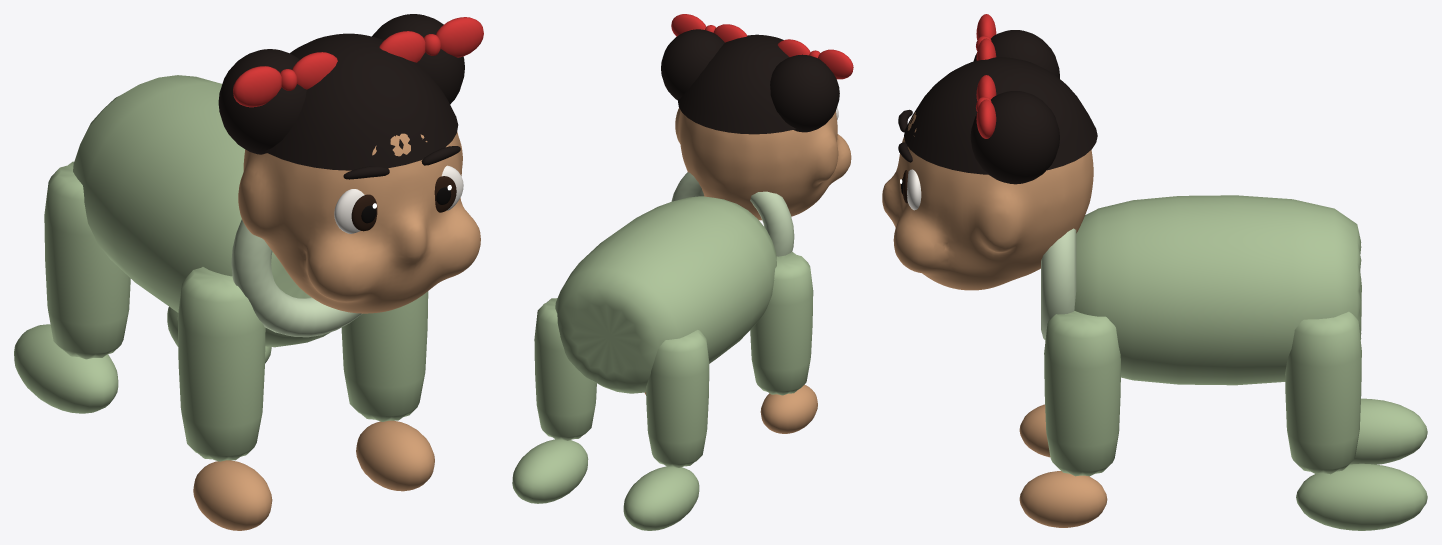
Rendered from baby-te54toFm.glb.
3 views of the same model, side by side, from view 1: azimuth 30°, elevation 25°; view 2: azimuth 150°, elevation 25°; view 3: azimuth 270°, elevation 25° (orthographic). The views are drawn at different scales.
Visible parts, largest first — view 1: baby_body_TEX_hearts, baby_bhead_baby_skin, baby_bhead_baby_hair, baby_limb2_TEX_hearts, baby_limb0_TEX_hearts, baby_limb1_TEX_hearts, baby_bhead_baby_bow, baby_body_baby_ruffle, baby_limb0_baby_skin, baby_limb1_baby_skin, baby_bhead_eye_white, baby_bhead_iris_#2b190f (+1 smaller); view 2: baby_body_TEX_hearts, baby_bhead_baby_hair, baby_bhead_baby_skin, baby_limb2_TEX_hearts, baby_limb3_TEX_hearts, baby_limb0_TEX_hearts, baby_body_baby_ruffle, baby_bhead_baby_bow, baby_limb0_baby_skin; view 3: baby_body_TEX_hearts, baby_bhead_baby_skin, baby_bhead_baby_hair, baby_limb3_TEX_hearts, baby_limb1_TEX_hearts, baby_limb1_baby_skin, baby_limb2_TEX_hearts, baby_body_baby_ruffle, baby_bhead_baby_bow, baby_limb0_baby_skin.
Part boxes in pixels (box(x1,y1,x2,y2)): baby_body_TEX_hearts: box(73, 75, 330, 347); baby_bhead_baby_skin: box(238, 132, 480, 313); baby_bhead_baby_hair: box(218, 14, 464, 170); baby_limb2_TEX_hearts: box(14, 161, 130, 413); baby_limb0_TEX_hearts: box(177, 267, 265, 461); baby_limb1_TEX_hearts: box(341, 291, 428, 421); baby_bhead_baby_bow: box(233, 17, 483, 107); baby_body_baby_ruffle: box(231, 219, 362, 337); baby_limb0_baby_skin: box(193, 460, 272, 530); baby_limb1_baby_skin: box(356, 420, 434, 491); baby_bhead_eye_white: box(334, 165, 463, 233); baby_bhead_iris_#2b190f: box(351, 176, 456, 231); baby_body_TEX_hearts: box(555, 196, 776, 393); baby_bhead_baby_hair: box(661, 29, 839, 134); baby_bhead_baby_skin: box(675, 108, 851, 220); baby_limb2_TEX_hearts: box(623, 330, 709, 530); baby_limb3_TEX_hearts: box(512, 298, 596, 503); baby_limb0_TEX_hearts: box(750, 252, 813, 395); baby_body_baby_ruffle: box(671, 172, 794, 256); baby_bhead_baby_bow: box(671, 14, 853, 79); baby_limb0_baby_skin: box(760, 384, 817, 433); baby_body_TEX_hearts: box(1074, 195, 1361, 385); baby_bhead_baby_skin: box(882, 112, 1093, 290); baby_bhead_baby_hair: box(904, 30, 1097, 184); baby_limb3_TEX_hearts: box(1285, 311, 1427, 530); baby_limb1_TEX_hearts: box(1044, 311, 1120, 476); baby_limb1_baby_skin: box(1019, 471, 1107, 527); baby_limb2_TEX_hearts: box(1350, 273, 1427, 464); baby_body_baby_ruffle: box(1041, 228, 1076, 340); baby_bhead_baby_bow: box(976, 14, 996, 138); baby_limb0_baby_skin: box(1019, 404, 1050, 457).
Bounding box in the file's own units: 0.2617 × 0.4982 × 0.5667.
